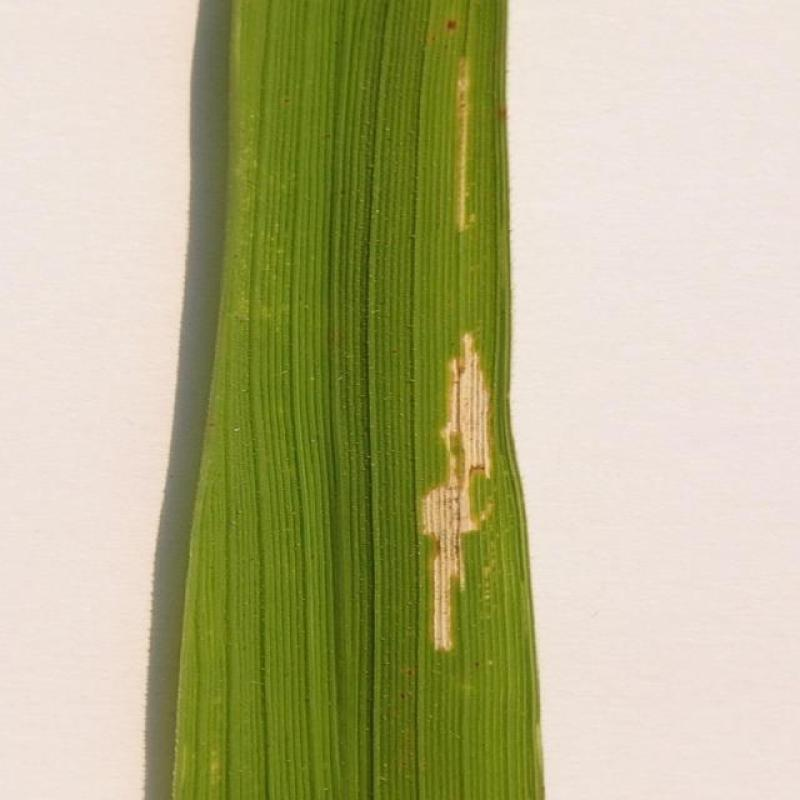Bacterial_Leaf_Blight: (392, 299, 532, 648), (428, 21, 498, 244)
